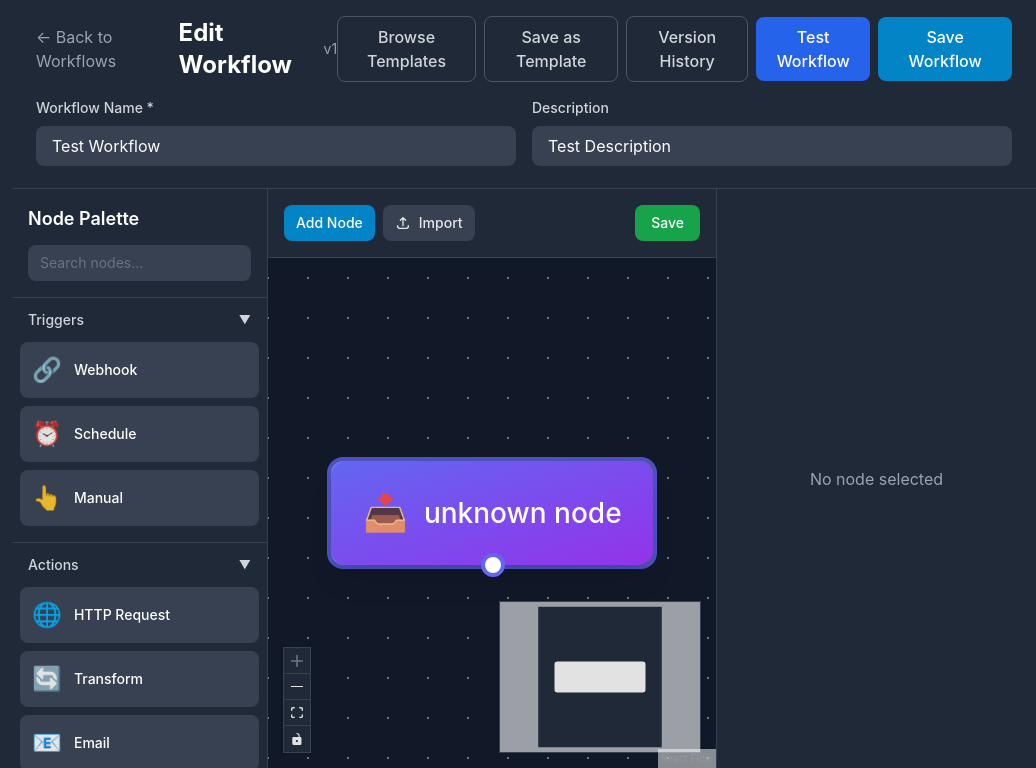
WorkflowEditor Integration Tests › Error Handling › should display API error message to user
Expected: the field with placeholder "Enter workflow name" is shown, [36,126,516,166]
Click the button "Save Workflow": (945, 49) [878,17,1012,81]
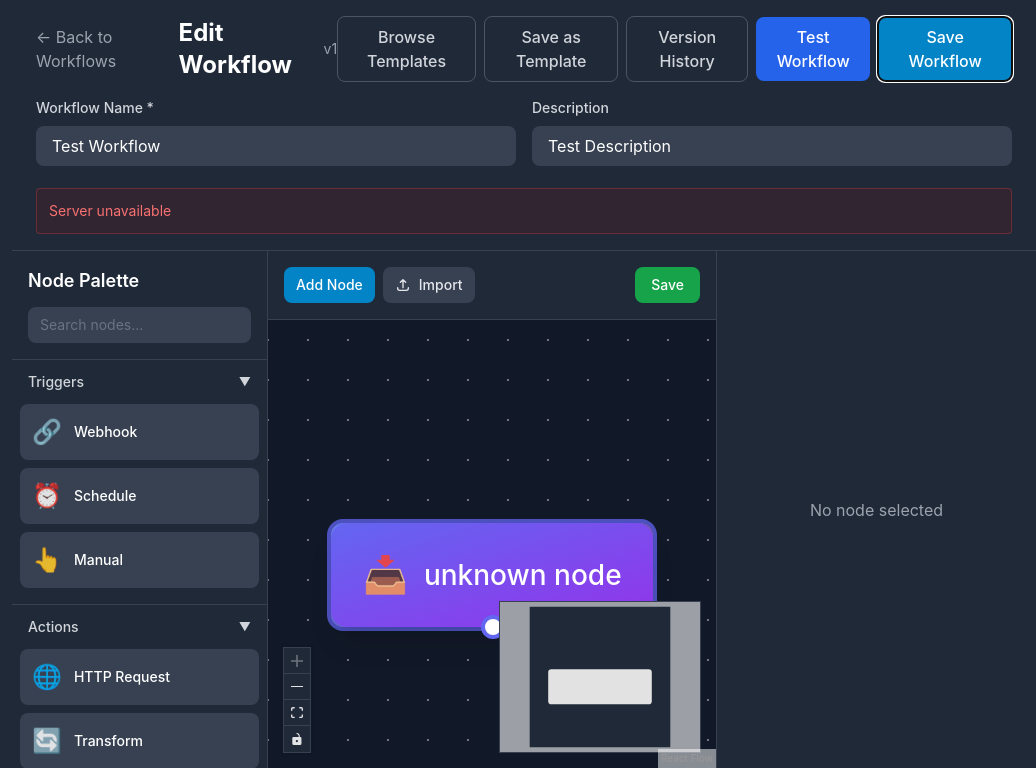
Now the text "Server unavailable" is shown, box [36,188,1012,234]
